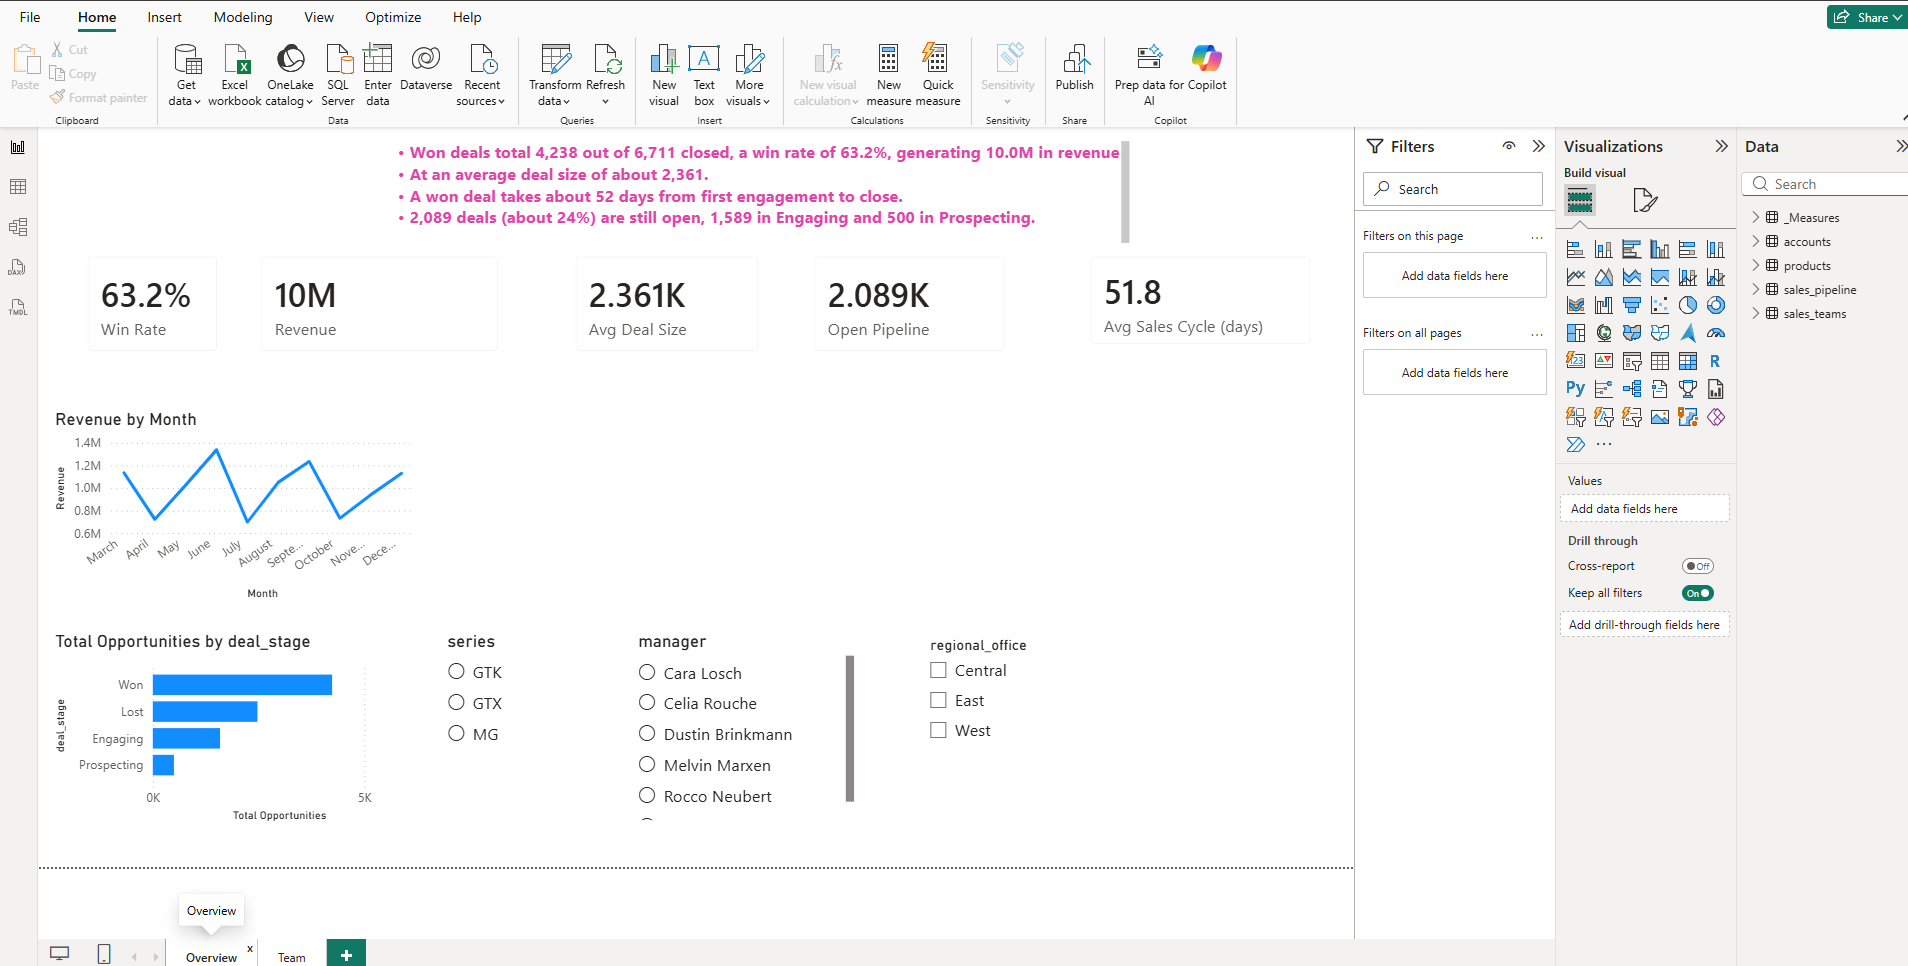

This screenshot's page, from the dashboard's own definition file:
{"tool":"powerbi","page":{"name":"Overview","canvas":[1280,720],"ordinal":0},"visuals":[{"type":"cardVisual","fields":{"Data":["_Measures.Revenue"]},"box":[200.4,108.9,264.6,126.4],"z":0},{"type":"cardVisual","fields":{"Data":["_Measures.Win Rate"]},"box":[31.1,108.9,160.5,126.4],"z":1000},{"type":"cardVisual","fields":{"Data":["_Measures.Avg Deal Size"]},"box":[505.8,108.9,212,126.4],"z":2000},{"type":"cardVisual","fields":{"Data":["_Measures.Open Pipeline"]},"box":[738.2,108.9,219.8,126.4],"z":3000},{"type":"cardVisual","fields":{"Data":["_Measures.Avg Sales Cycle (days)"]},"box":[1006.7,108.9,249,119.6],"z":4000},{"type":"lineChart","fields":{"Category":["sales_pipeline.close_date.Variation.Date Hierarchy.Month"],"Y":["_Measures.Revenue"]},"box":[11.7,274.3,358.9,189.7],"z":5000},{"type":"clusteredBarChart","fields":{"Category":["sales_pipeline.deal_stage"],"Y":["_Measures.Total Opportunities"]},"box":[11.7,490.2,358.9,189.7],"z":6000},{"type":"listSlicer","fields":{"Values":["products.series"]},"box":[392.9,490.2,212,189.7],"z":7000},{"type":"listSlicer","fields":{"Values":["sales_teams.manager"]},"box":[578.7,490.2,220.8,189.7],"z":8000},{"type":"slicer","fields":{"Values":["sales_teams.regional_office"]},"box":[855,490.2,249,190.6],"z":9000},{"type":"textbox","box":[332.6,8.8,734.3,109.9],"z":9001}]}

Visuals, with their boxes on the page's 1280x720 design canvas (x1, y1, x2, y2). These are canvas units, not pixel positions in the 1908x966 screenshot, which may show the page scaled, cropped or inside an application window:
cardVisual - _Measures.Revenue: bbox=[200, 109, 465, 235]
cardVisual - _Measures.Win Rate: bbox=[31, 109, 192, 235]
cardVisual - _Measures.Avg Deal Size: bbox=[506, 109, 718, 235]
cardVisual - _Measures.Open Pipeline: bbox=[738, 109, 958, 235]
cardVisual - _Measures.Avg Sales Cycle (days): bbox=[1007, 109, 1256, 228]
lineChart - sales_pipeline.close_date.Variation.Date Hierarchy.Month x _Measures.Revenue: bbox=[12, 274, 371, 464]
clusteredBarChart - sales_pipeline.deal_stage x _Measures.Total Opportunities: bbox=[12, 490, 371, 680]
listSlicer - products.series: bbox=[393, 490, 605, 680]
listSlicer - sales_teams.manager: bbox=[579, 490, 800, 680]
slicer - sales_teams.regional_office: bbox=[855, 490, 1104, 681]
textbox: bbox=[333, 9, 1067, 119]
